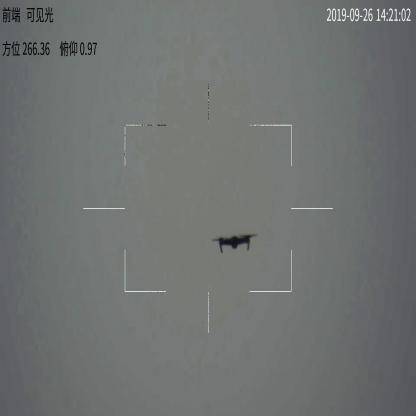uav: (212, 228, 256, 255)
